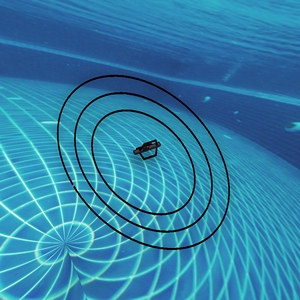circle: (44, 55, 245, 269)
